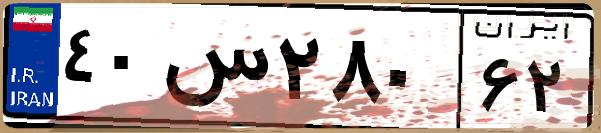0: (385, 28, 445, 110), (110, 28, 158, 98)
2: (270, 28, 330, 110), (525, 38, 570, 115)
4: (57, 26, 110, 100)
6: (475, 38, 525, 113)
8: (330, 28, 385, 110)
س: (158, 20, 270, 120)
